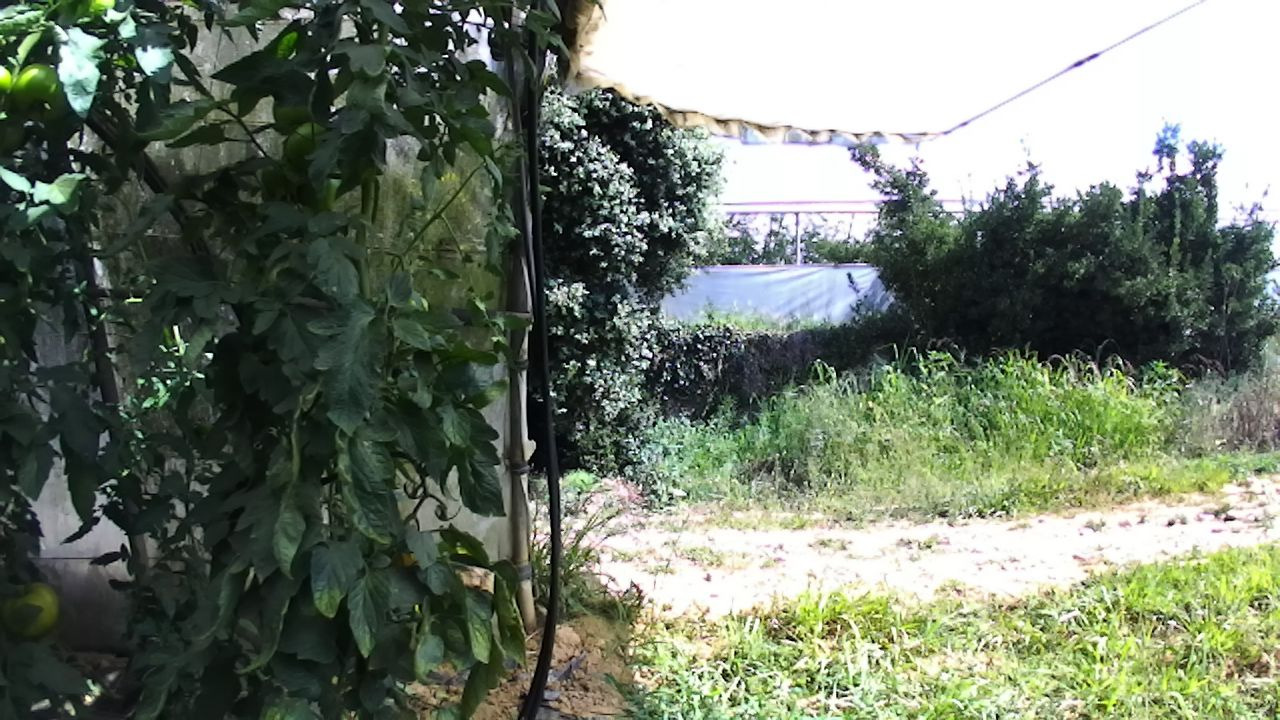tomato: (0, 575, 64, 643), (6, 57, 60, 120)
